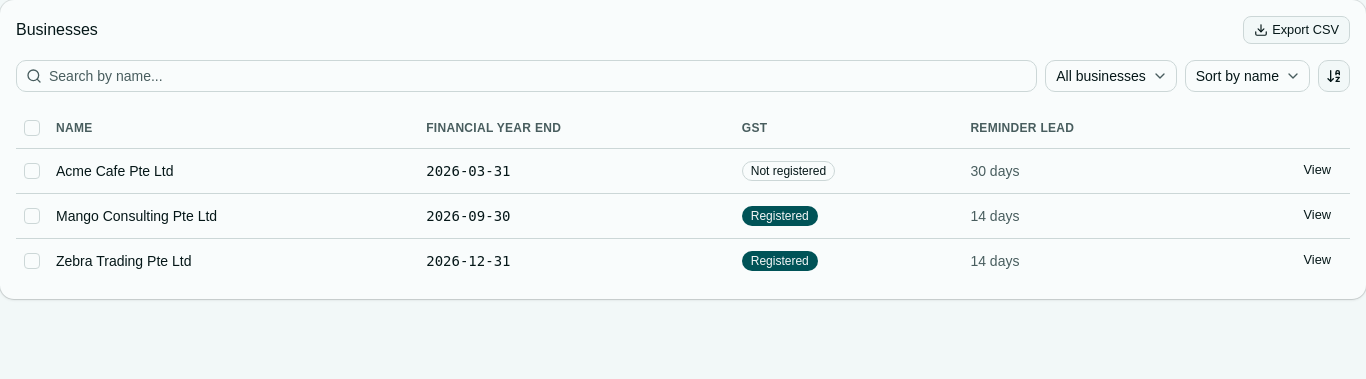
Test: BusinessList - bulk select and actions (issue #35) › selecting one row shows the bulk action bar with the right count
Click the checkbox named "Select Acme Cafe Pte Ltd": (32, 170) left=24, top=162, right=40, bottom=178
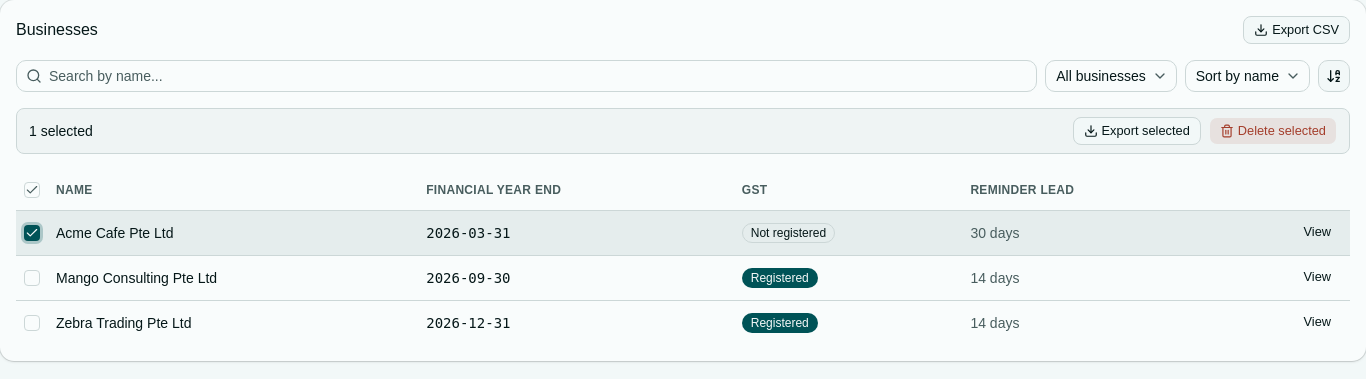
Expected: the text "1 selected" is shown, left=29, top=121, right=93, bottom=141
